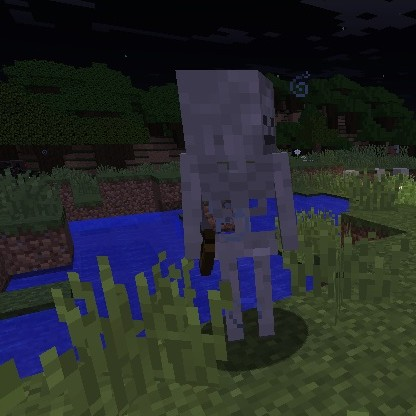skeleton: (169, 61, 302, 208)
